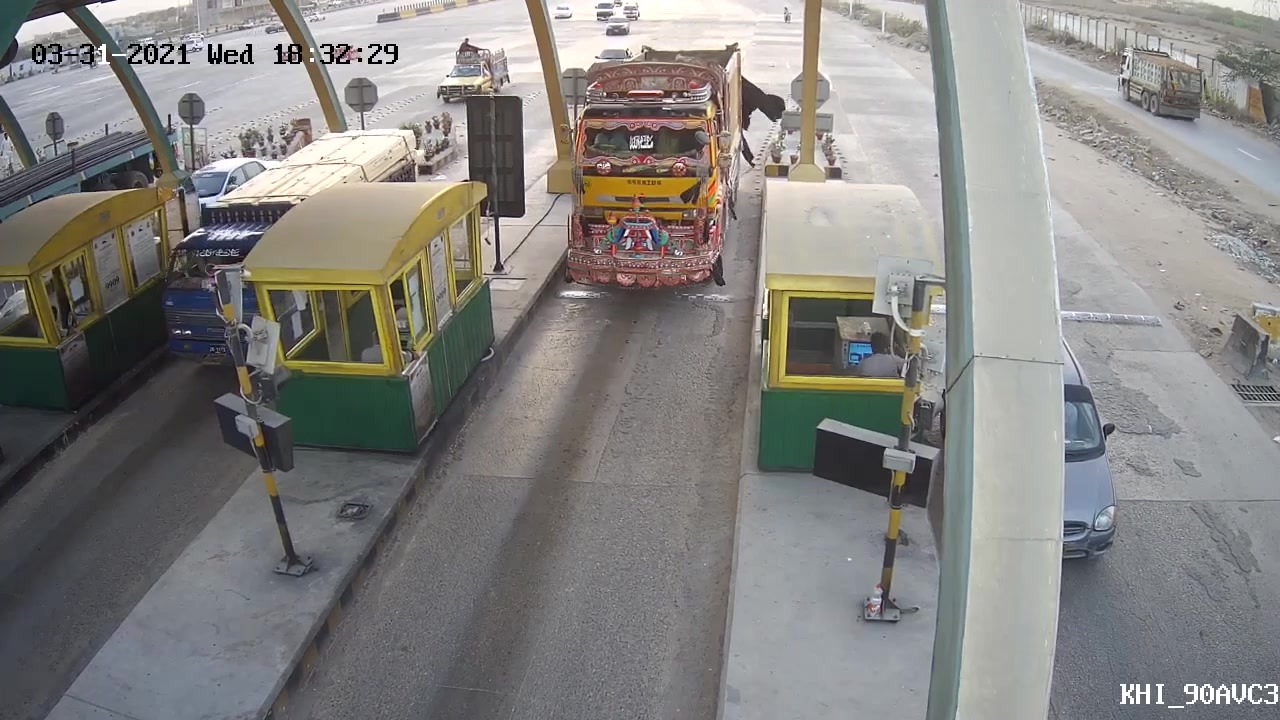F5: (547, 46, 753, 302)
